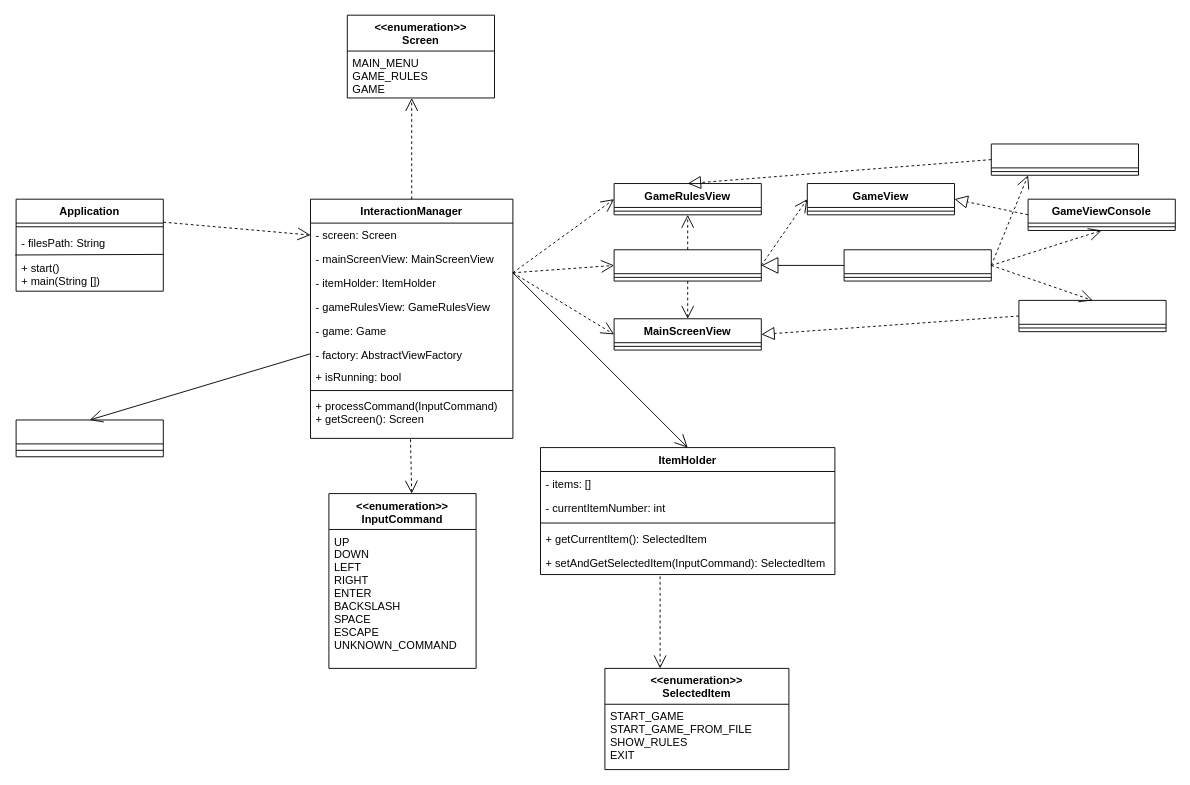
Image size: 1190x785. Some labels were removed from this diagram. The shapes that lost their labels are listed below. From the top down, each one's centre as x and y in pixels, then its label:
At point (1064, 159): "GameRulesViewConsole".
At point (687, 265): "AbstractViewFactory".
At point (917, 265): "ConsoleViewFactory".
At point (1092, 315): "MainScreenViewConsole".
At point (89, 438): "Game".
